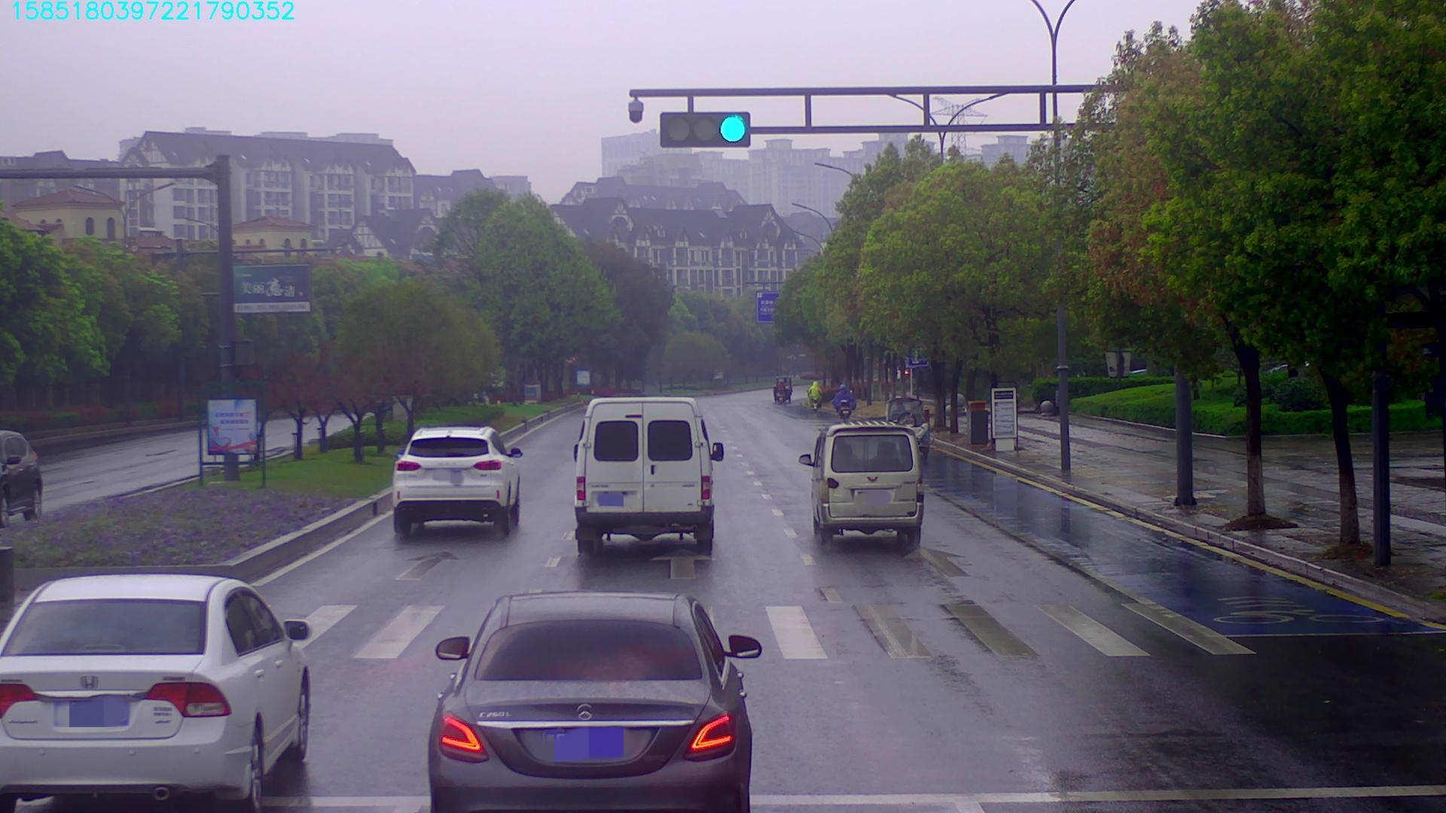green: (660, 111, 749, 151)
